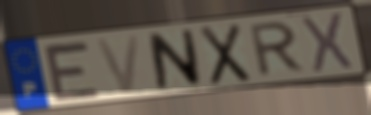E: (40, 40, 104, 104)
N: (145, 27, 204, 92)
R: (248, 19, 309, 80)
V: (93, 32, 143, 96)
X: (197, 21, 253, 88), (299, 10, 356, 75)
